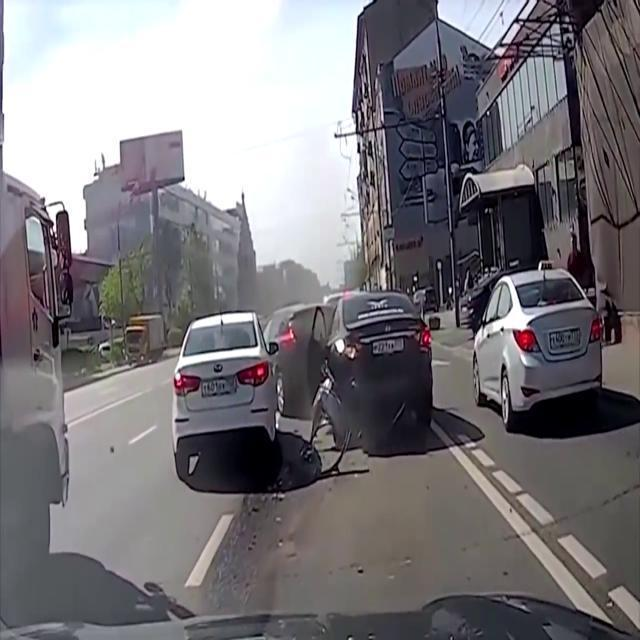accident: (282, 294, 434, 444)
non-accident: (458, 263, 606, 433)
